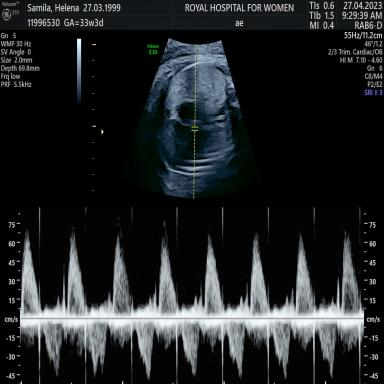Ultrasound-Waves: (24, 206, 360, 384)
